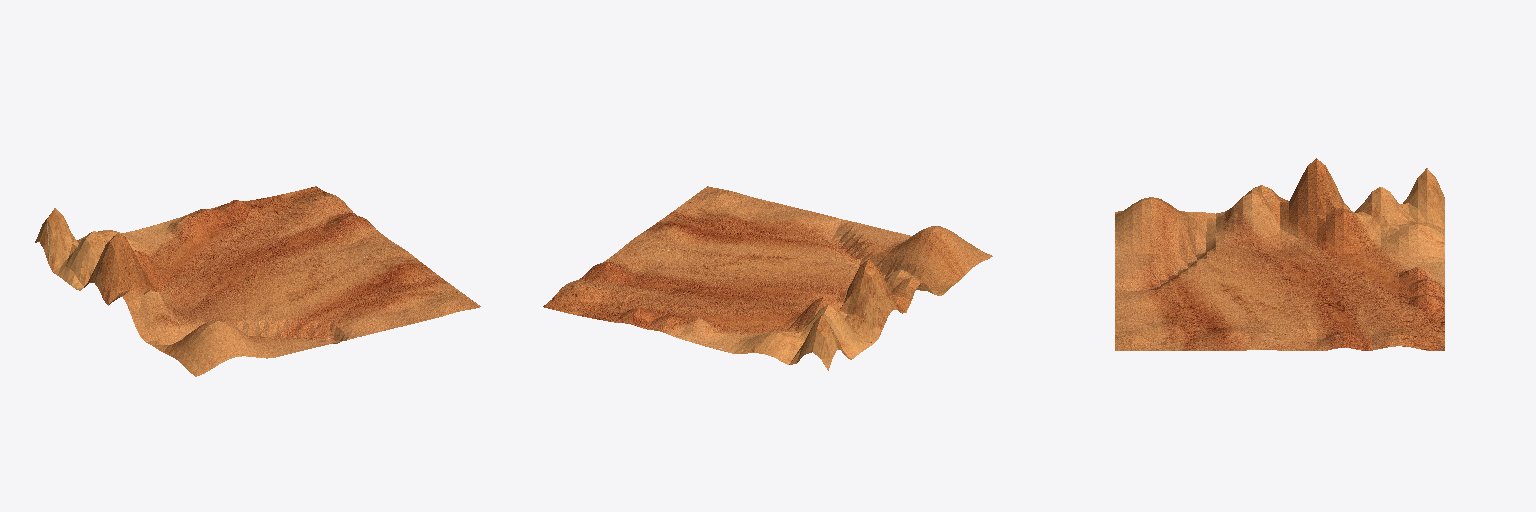
3 views of the same model, side by side, from view 1: azimuth 30°, elevation 25°; view 2: azimuth 150°, elevation 25°; view 3: azimuth 270°, elevation 25° (orthographic).
Visible parts, largest first — view 1: Grid; view 2: Grid; view 3: Grid.
Boxes of the visible parts, x1,y1,x2,y2 form: Grid: [35, 186, 480, 376]; Grid: [543, 186, 992, 370]; Grid: [1115, 158, 1444, 350].
Bounding box in the file's own units: 5121 × 1350 × 5121.
Materials: 1 (1 with a texture image).